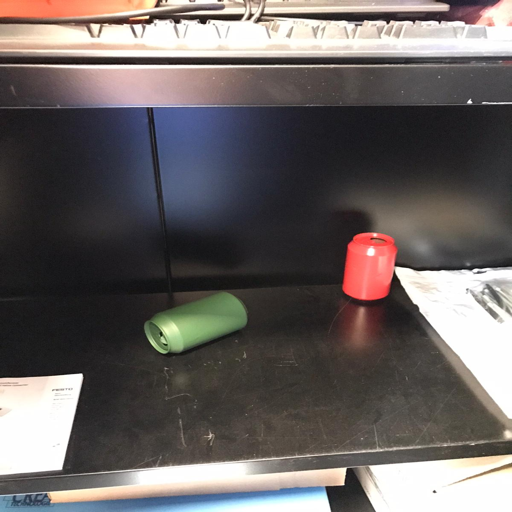Green_Can: (139, 289, 250, 354)
Red_Can: (341, 230, 398, 301)
